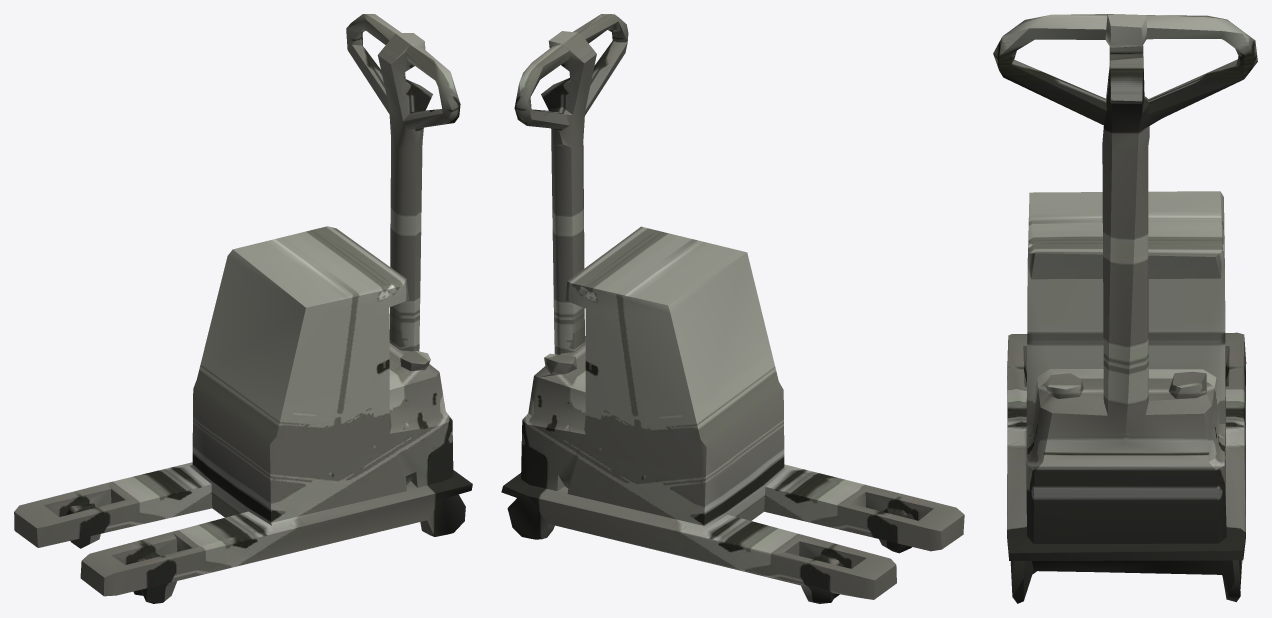
3 views of the same model, side by side, from view 1: azimuth 30°, elevation 25°; view 2: azimuth 150°, elevation 25°; view 3: azimuth 270°, elevation 25° (orthographic). The views are drawn at different scales.
Visible parts, largest first — view 1: Decor_pallet_jack_c; view 2: Decor_pallet_jack_c; view 3: Decor_pallet_jack_c.
Part boxes in pixels (x1,y1,x2,y2): Decor_pallet_jack_c: (14,14,472,603); Decor_pallet_jack_c: (501,14,964,603); Decor_pallet_jack_c: (993,14,1257,603).
Size of the model in its own units: 0.995 by 1.2 by 0.4906.
1 material, 1 textured.
